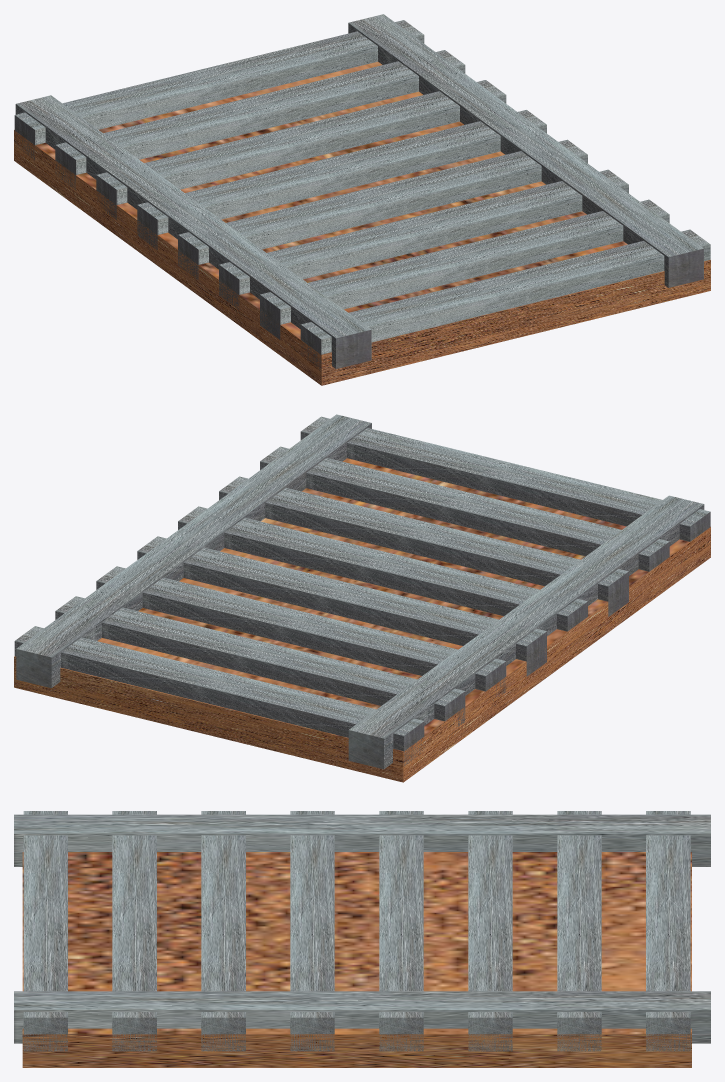
Rendered from track.fbx.
3 renders of one model, top to bottom at view 1: azimuth 30°, elevation 25°; view 2: azimuth 150°, elevation 25°; view 3: azimuth 270°, elevation 25°, orthographic. The views are drawn at different scales.
Visible parts, largest first — view 1: MiddleTrack, Base, SideTrack; view 2: MiddleTrack, Base, SideTrack; view 3: MiddleTrack, Base, SideTrack.
Part boxes in pixels (left/top/right/bottom): MiddleTrack: left=14, top=20, right=710, bottom=369; Base: left=14, top=61, right=710, bottom=385; SideTrack: left=15, top=14, right=703, bottom=368; MiddleTrack: left=14, top=416, right=710, bottom=766; Base: left=14, top=458, right=710, bottom=782; SideTrack: left=16, top=414, right=704, bottom=769; MiddleTrack: left=23, top=811, right=690, bottom=1051; Base: left=22, top=852, right=691, bottom=1067; SideTrack: left=14, top=814, right=710, bottom=1043.
Size of the model in its own units: 200 by 23.48 by 285.
